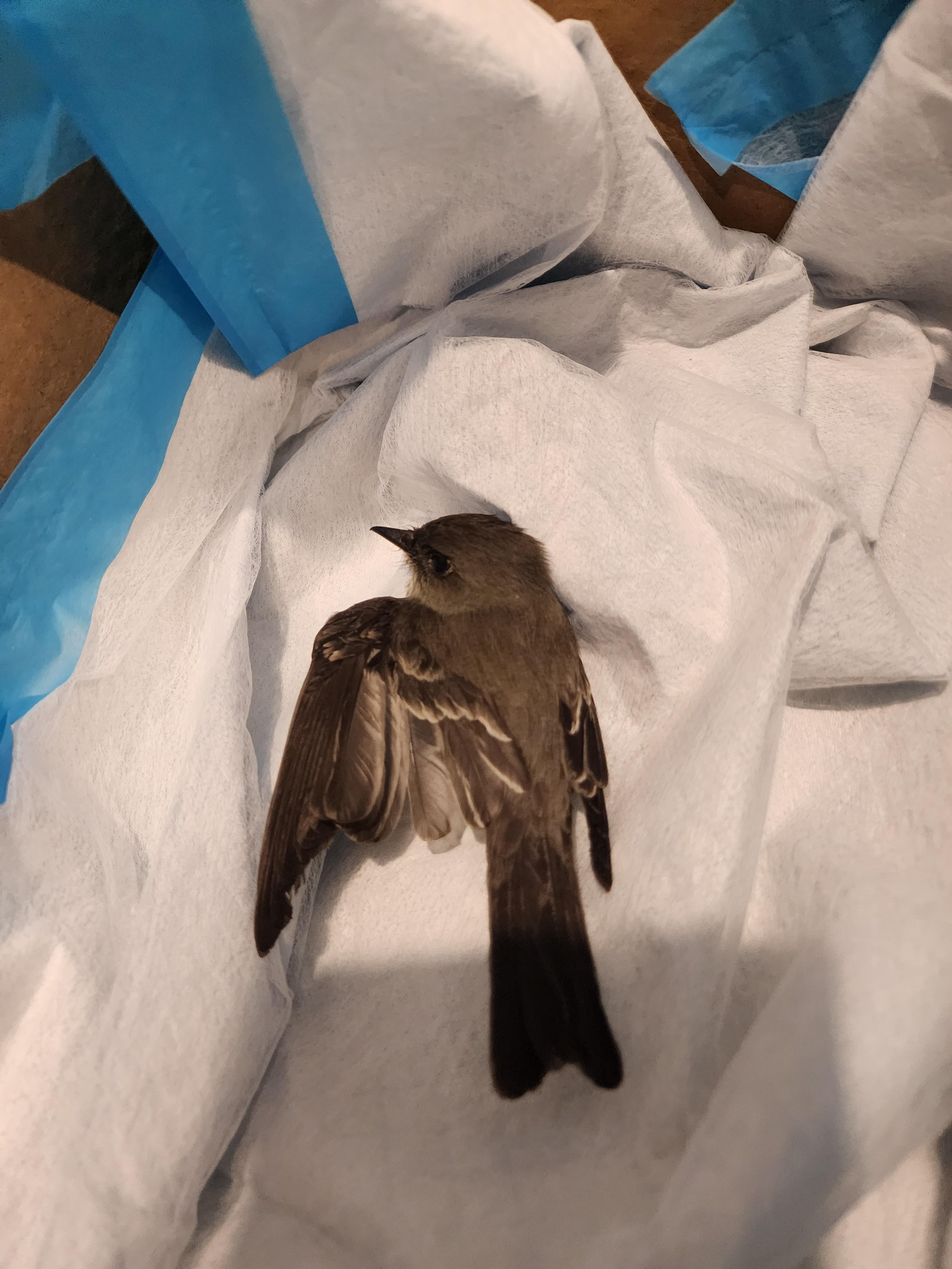fracture: (199, 607, 463, 993)
